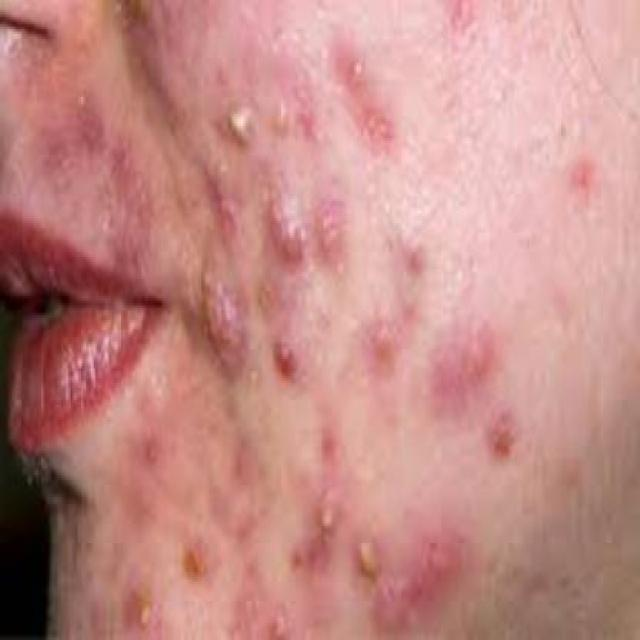dark spot: (418, 310, 504, 424), (96, 121, 146, 194), (552, 143, 598, 211), (388, 223, 434, 284), (476, 405, 522, 465)
nodules: (194, 255, 252, 378), (260, 192, 315, 272)
papules: (348, 303, 408, 381), (264, 315, 310, 388)
pustules: (257, 85, 300, 153), (126, 572, 172, 635), (343, 526, 392, 582), (336, 46, 384, 102), (304, 482, 348, 543), (220, 92, 258, 155)
